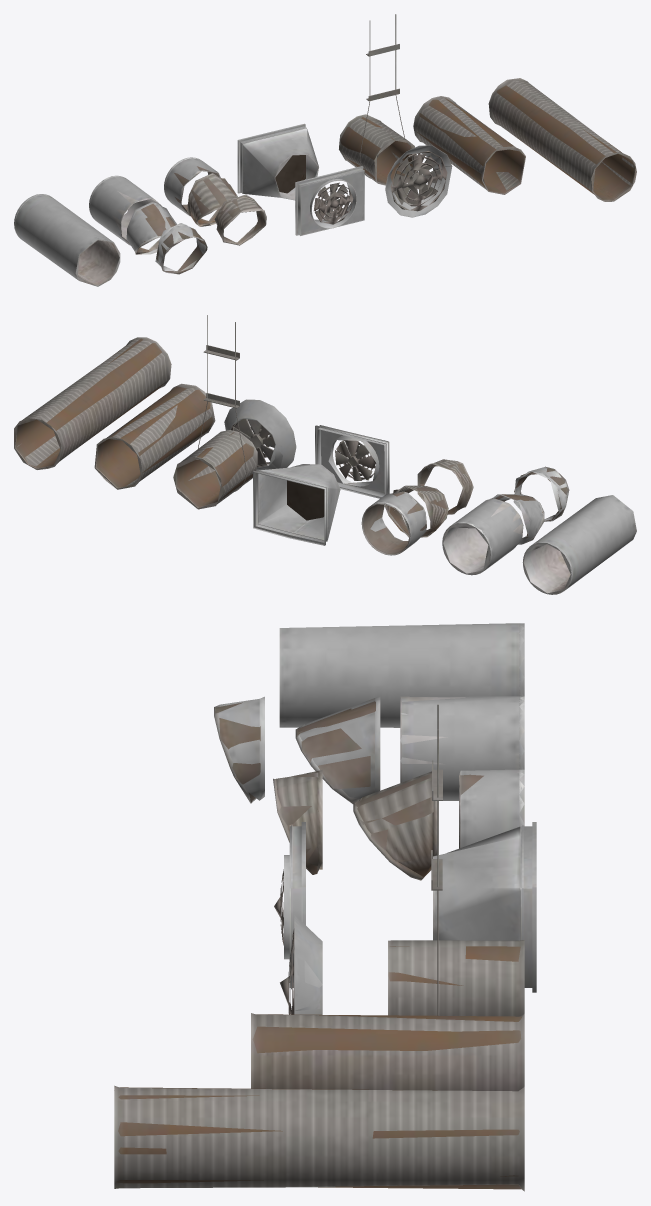
The model's file is modular_airduct_circular_01.slim.glb.
3 views of the same model, one above another, from view 1: azimuth 30°, elevation 25°; view 2: azimuth 150°, elevation 25°; view 3: azimuth 270°, elevation 25° (orthographic). The views are drawn at different scales.
Size of the model in its own units: 4.17 by 1.32 by 1.46.
Materials: 1 (1 with a texture image).
